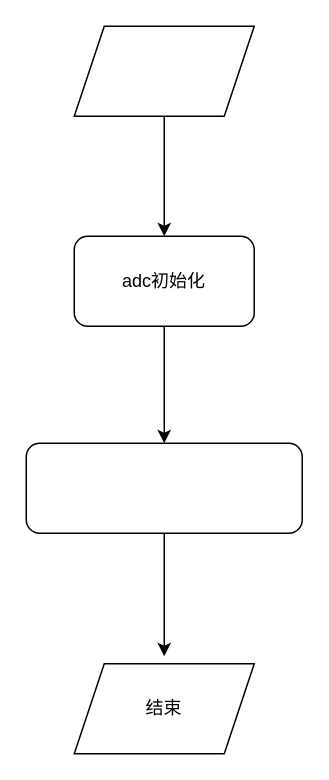
Some shapes in this 329 by 780 pixel diagram are drawn without their labels. The shapes that lost their labels are listed below. From the top down, each one's centre as x and y in pixels, then its label:
At point (163, 70): "开始".
At point (163, 487): "按照手册中的 氧气浓度 = （Ax-A0）*20.9 /（A1-A0）*100% 计算出氧气浓度".
